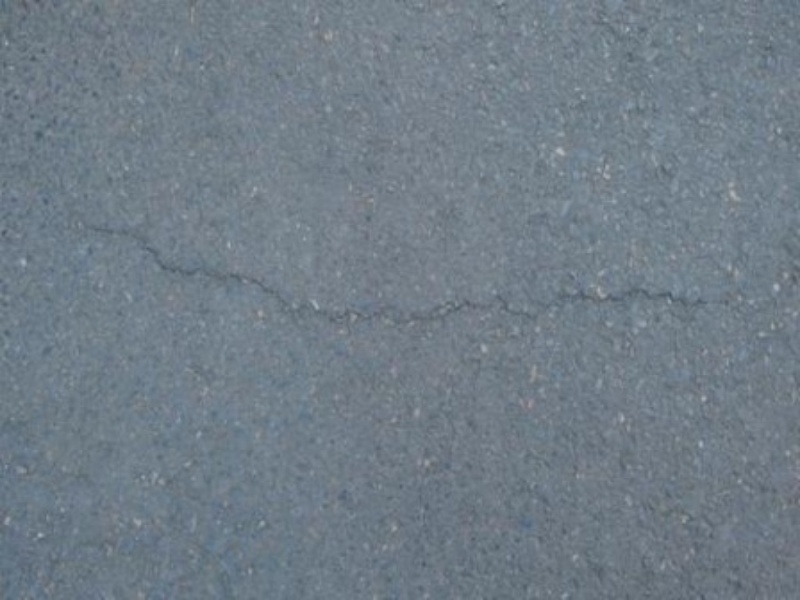crack: (82, 210, 725, 336)
